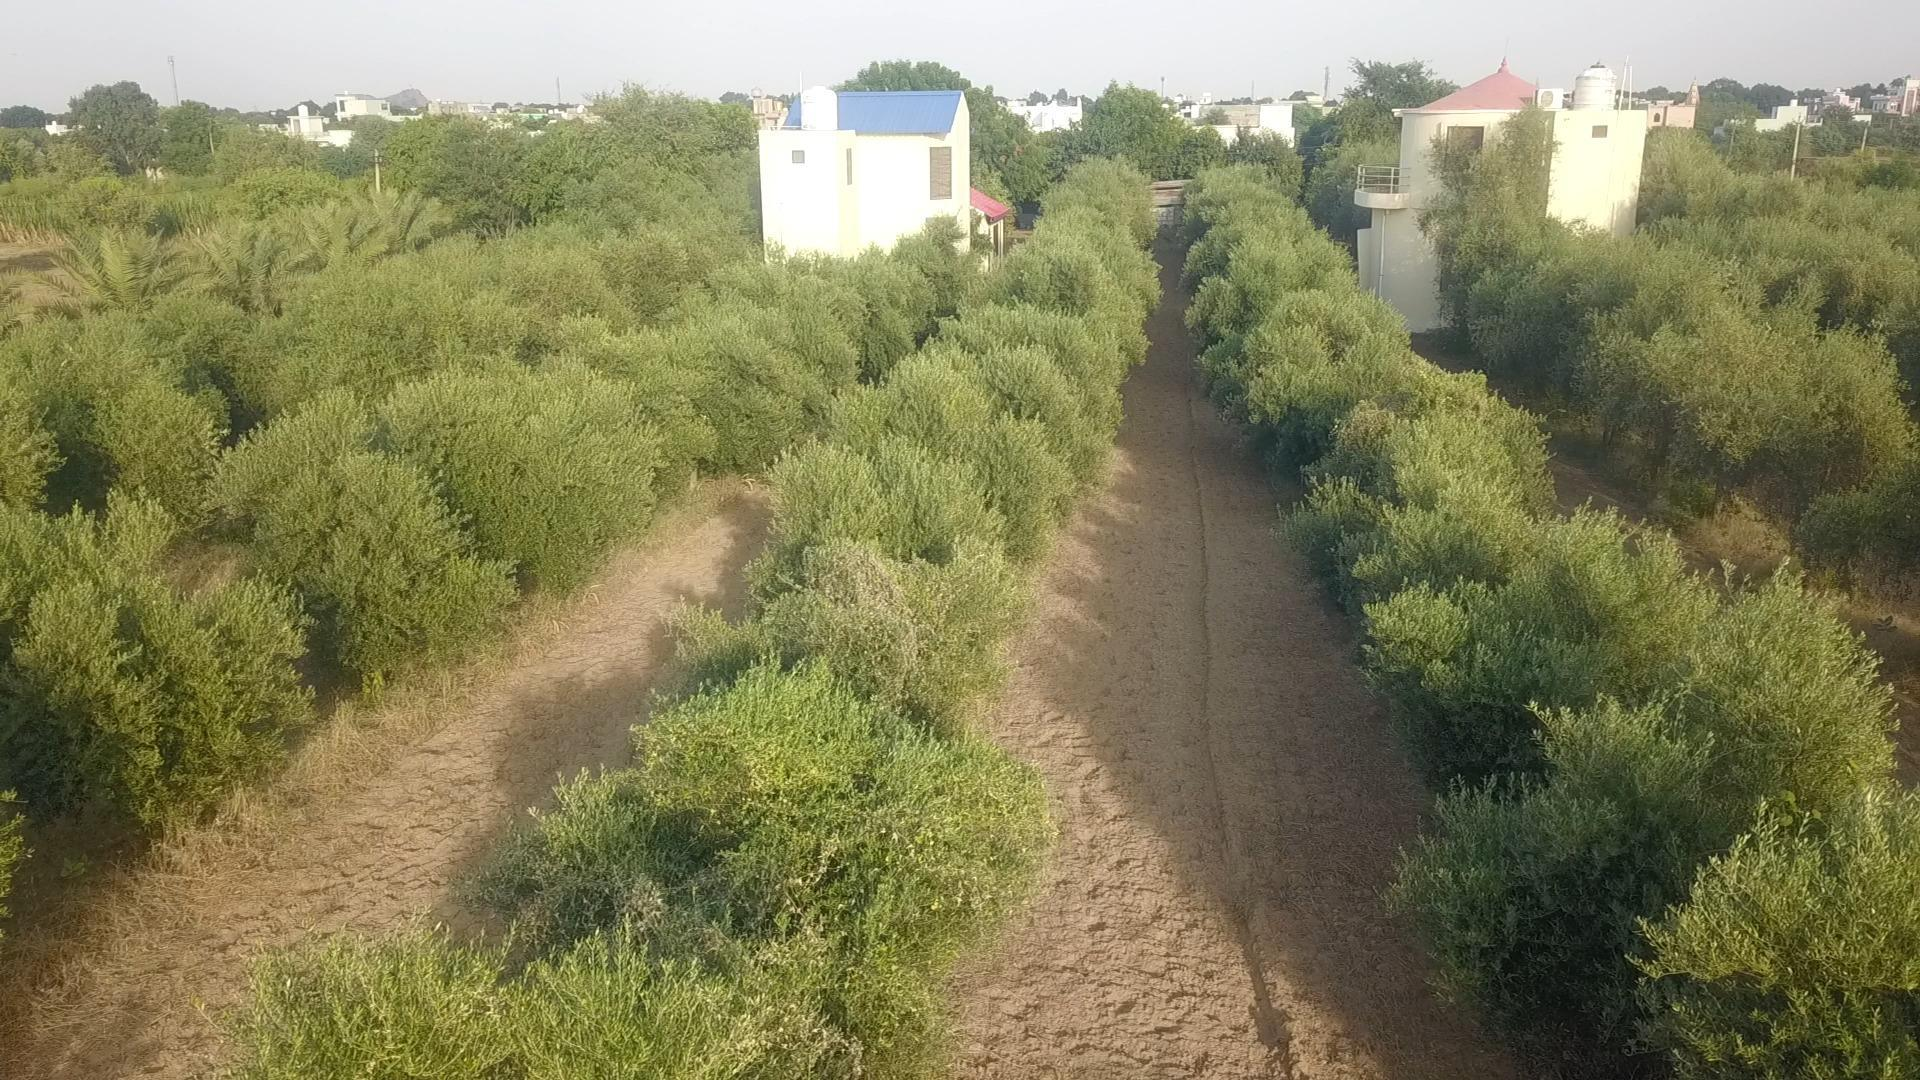canopy: (240, 160, 1159, 1079), (1183, 165, 1919, 1076), (0, 247, 959, 829), (1425, 117, 1919, 568), (0, 228, 707, 524), (98, 745, 109, 753)
road: (0, 493, 767, 1079), (949, 290, 1519, 1079), (1549, 438, 1919, 785)
